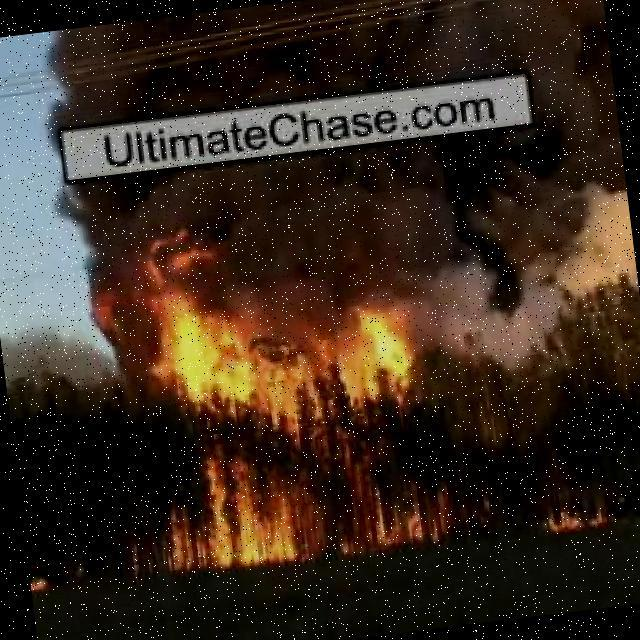Fire: (102, 198, 444, 580), (538, 497, 625, 532)
